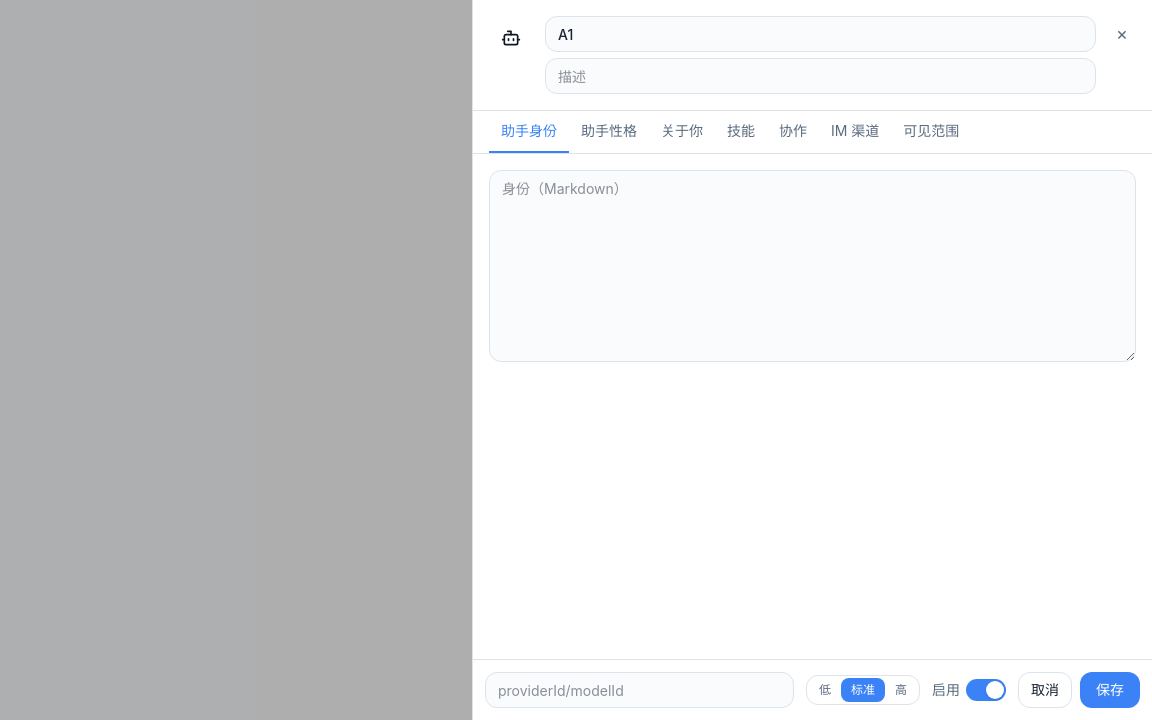
Test: AgentDrawer › subagent tab disables a cyclic candidate with a 成环 note
Click the tab "协作". click: (793, 132)
box: top-left (767, 111), bottom-right (819, 153)
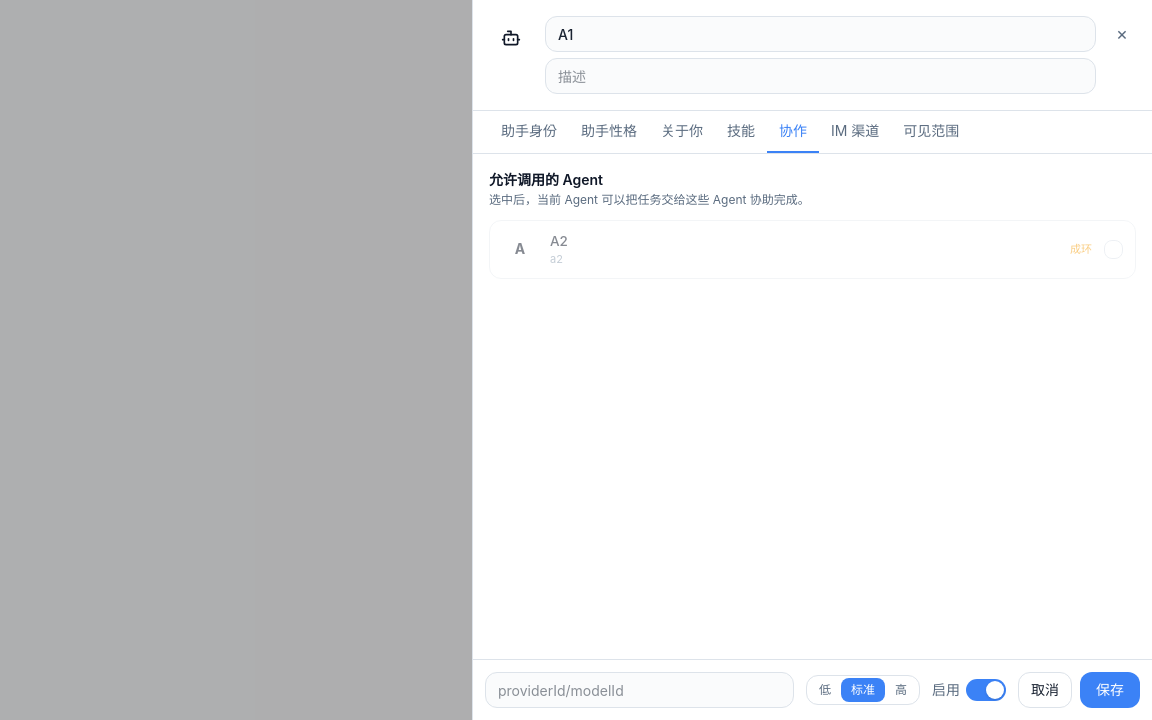
expect the button "A A2 a2 成环" is disabled: met, box top-left (489, 220), bottom-right (1136, 279)
expect the text "成环" is shown: met, box top-left (1070, 241), bottom-right (1092, 258)
